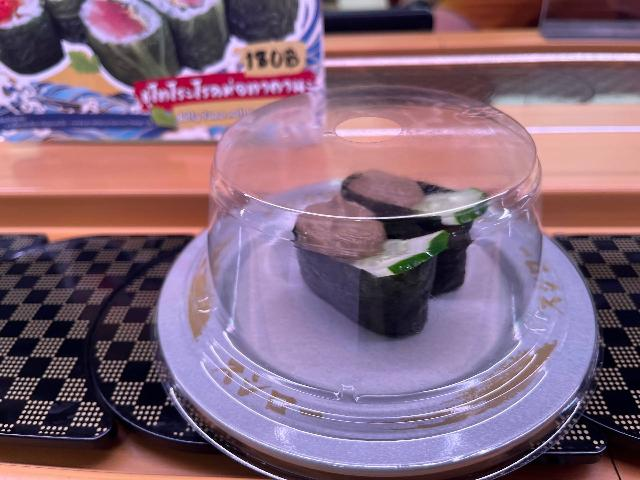janwhite: (159, 187, 593, 450)
